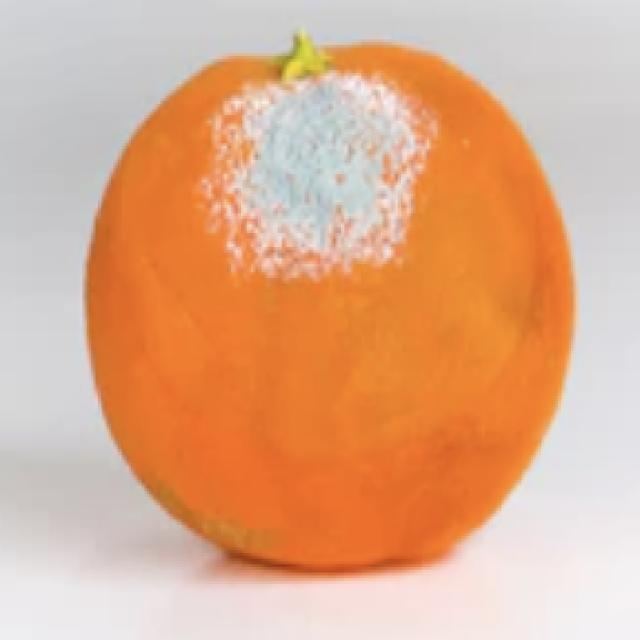sedikit-busuk: (86, 44, 573, 569)
